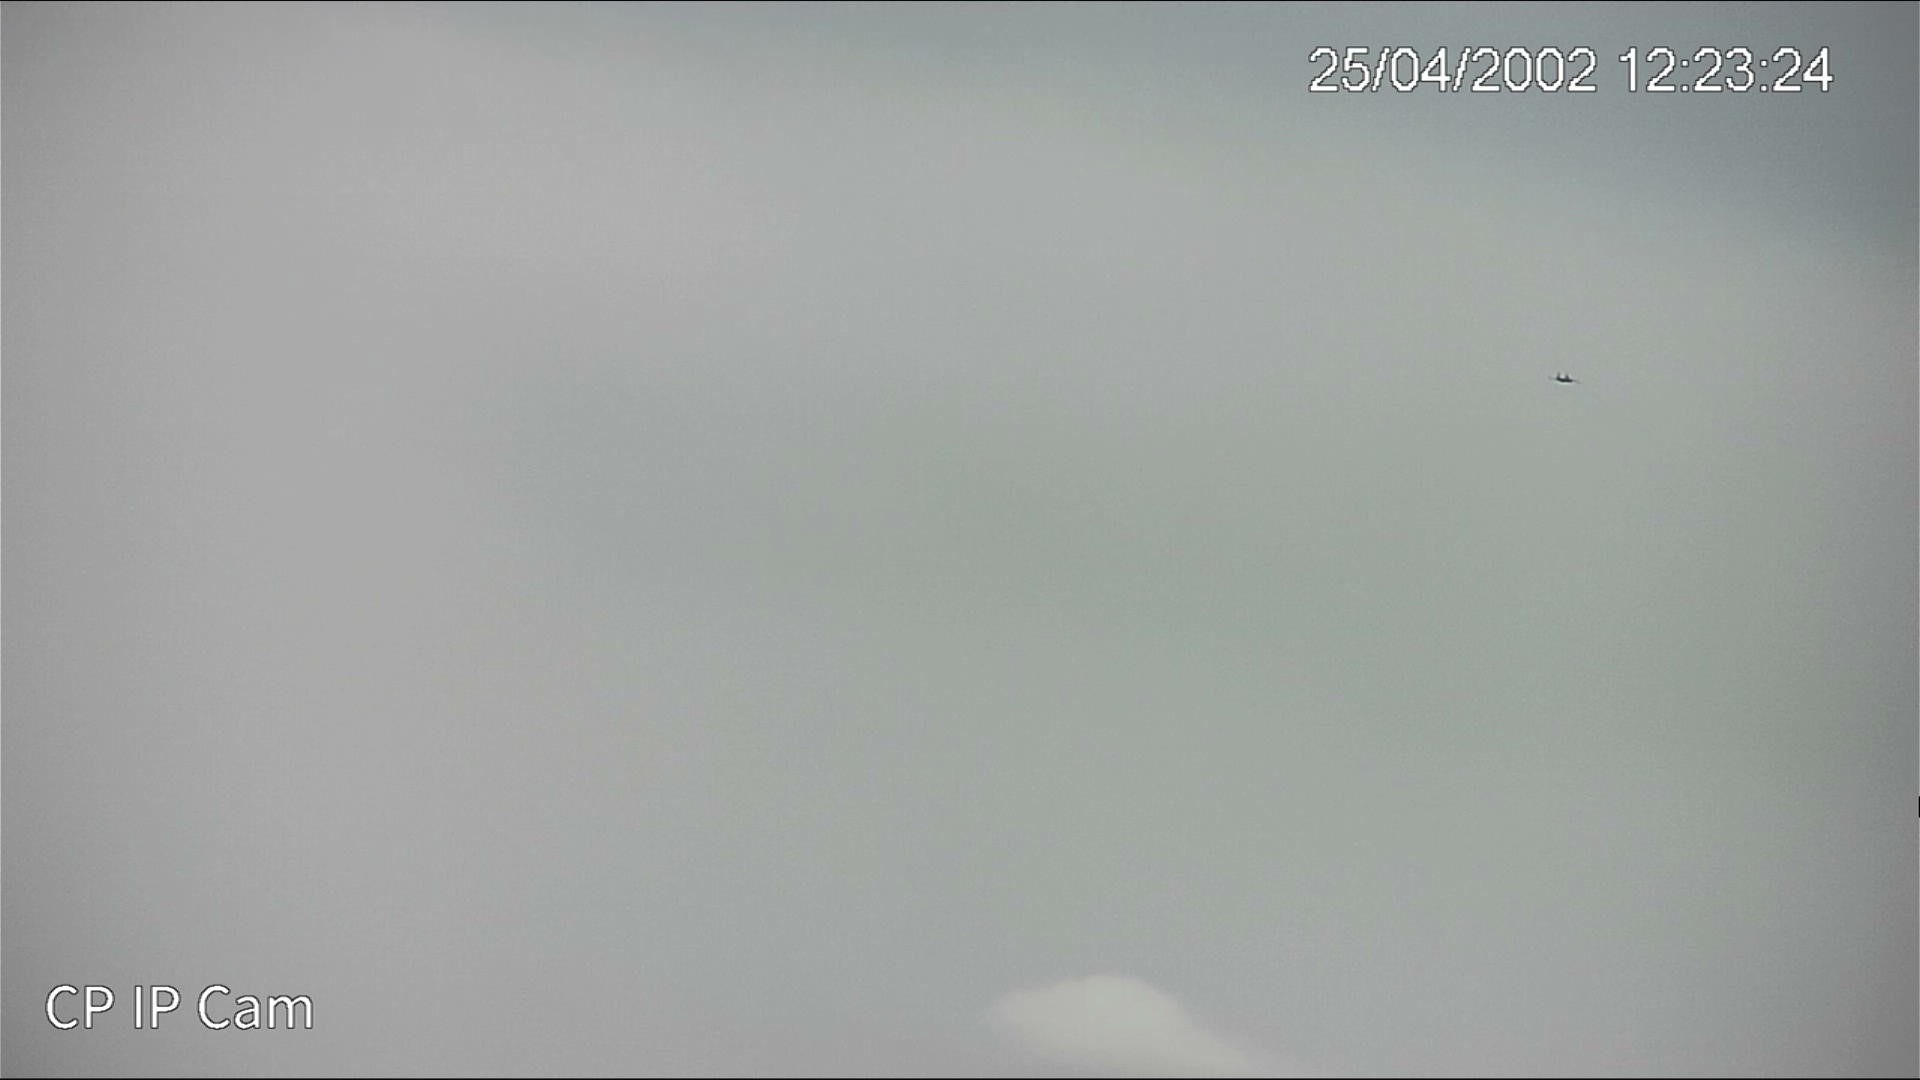SU_30: (1545, 369, 1577, 385)
